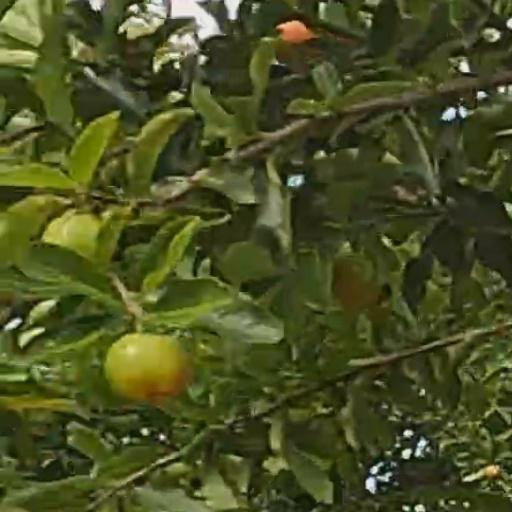acerola_vermelha: (105, 333, 192, 402), (279, 24, 318, 69)
